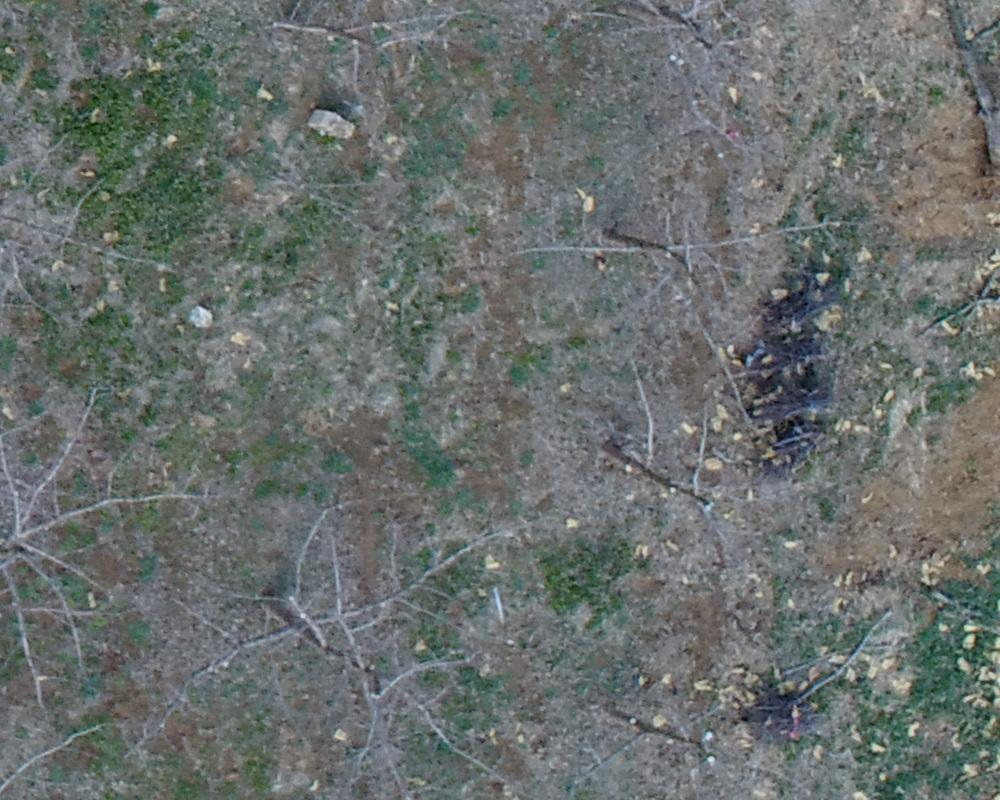apple: (537, 182, 849, 348), (202, 493, 409, 738), (10, 406, 185, 695), (10, 53, 176, 340), (563, 356, 785, 545)
